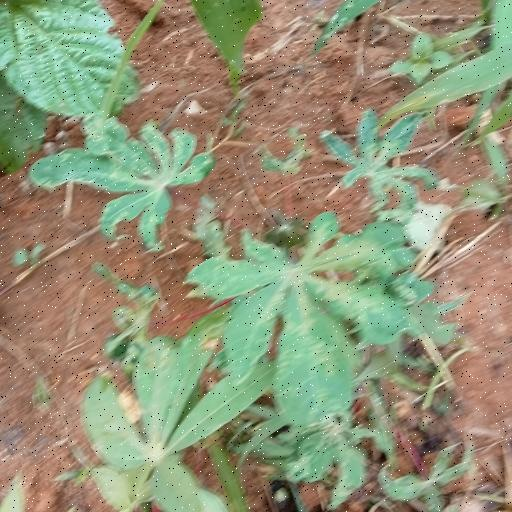Cassava_Mosaic: (202, 228, 418, 417)
